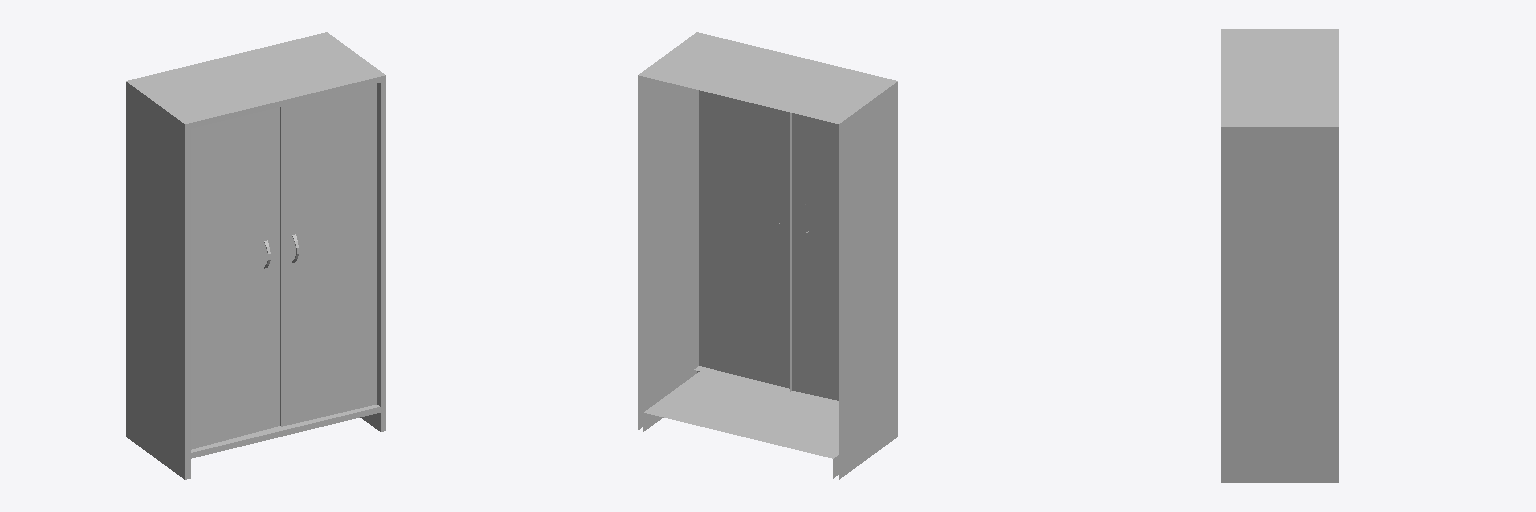
The model's file is Closet04.obj.
3 renders of one model, left to right at view 1: azimuth 30°, elevation 25°; view 2: azimuth 150°, elevation 25°; view 3: azimuth 270°, elevation 25°, orthographic.
Visible parts, largest first — view 1: Closet04_LOD0_Closet04.001; view 2: Closet04_LOD0_Closet04.001; view 3: Closet04_LOD0_Closet04.001.
Boxes of the visible parts, x1=… form: Closet04_LOD0_Closet04.001: x1=126, y1=32, x2=385, y2=479; Closet04_LOD0_Closet04.001: x1=638, y1=32, x2=897, y2=479; Closet04_LOD0_Closet04.001: x1=1221, y1=29, x2=1338, y2=482.
Bounding box in the file's own units: 1.47 × 2.48 × 0.7478.